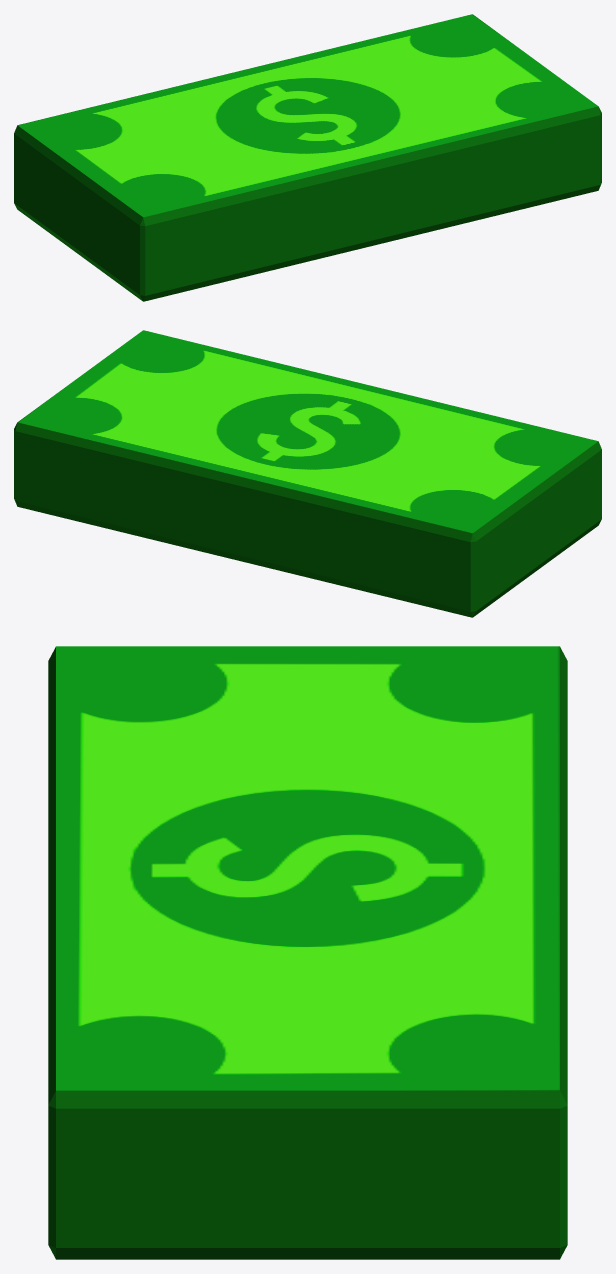
The model's file is Money.fbx.
The picture shows the model from 3 angles, top to bottom: view 1: azimuth 30°, elevation 25°; view 2: azimuth 150°, elevation 25°; view 3: azimuth 270°, elevation 25°; orthographic projection. The views are drawn at different scales.
Visible parts, largest first — view 1: Money; view 2: Money; view 3: Money.
Part boxes in pixels (bbox=[...]): Money: bbox=[14, 14, 601, 301]; Money: bbox=[14, 330, 601, 617]; Money: bbox=[48, 646, 567, 1259].
Size of the model in its own units: 4.11 by 0.7168 by 2.
